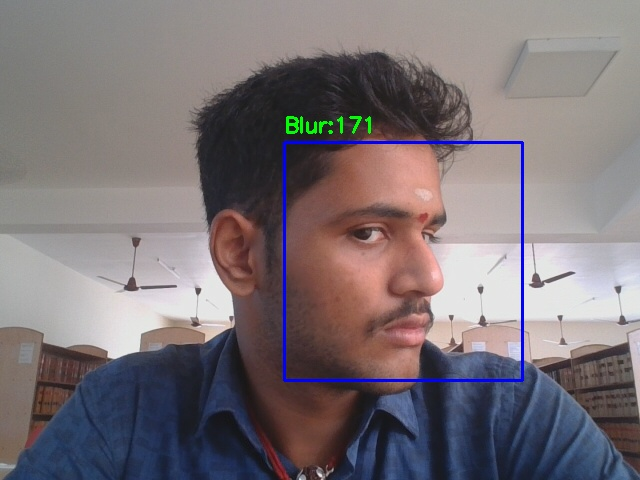real: (284, 142, 522, 380)
